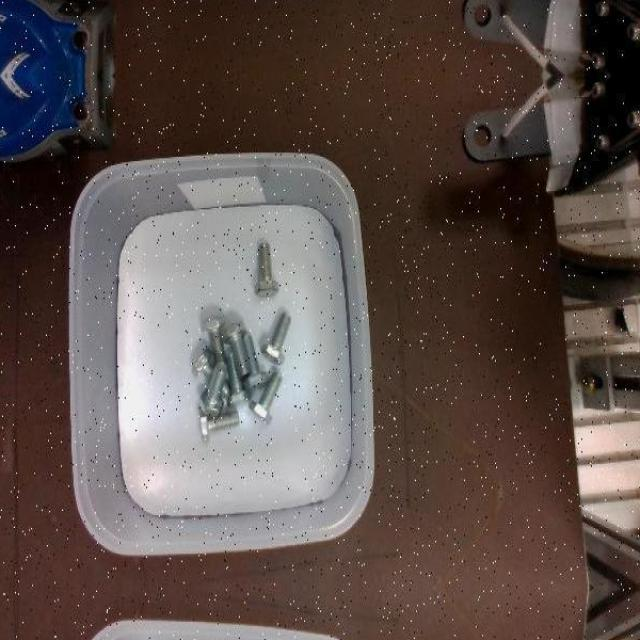screw: (250, 371, 284, 424), (260, 310, 292, 364), (222, 322, 251, 379), (198, 362, 228, 417), (255, 242, 280, 298)
